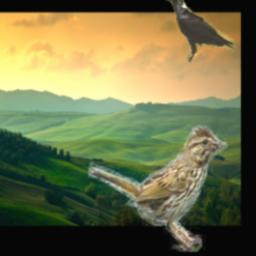Crow: (163, 0, 235, 63)
Sparrow: (89, 123, 230, 252)
